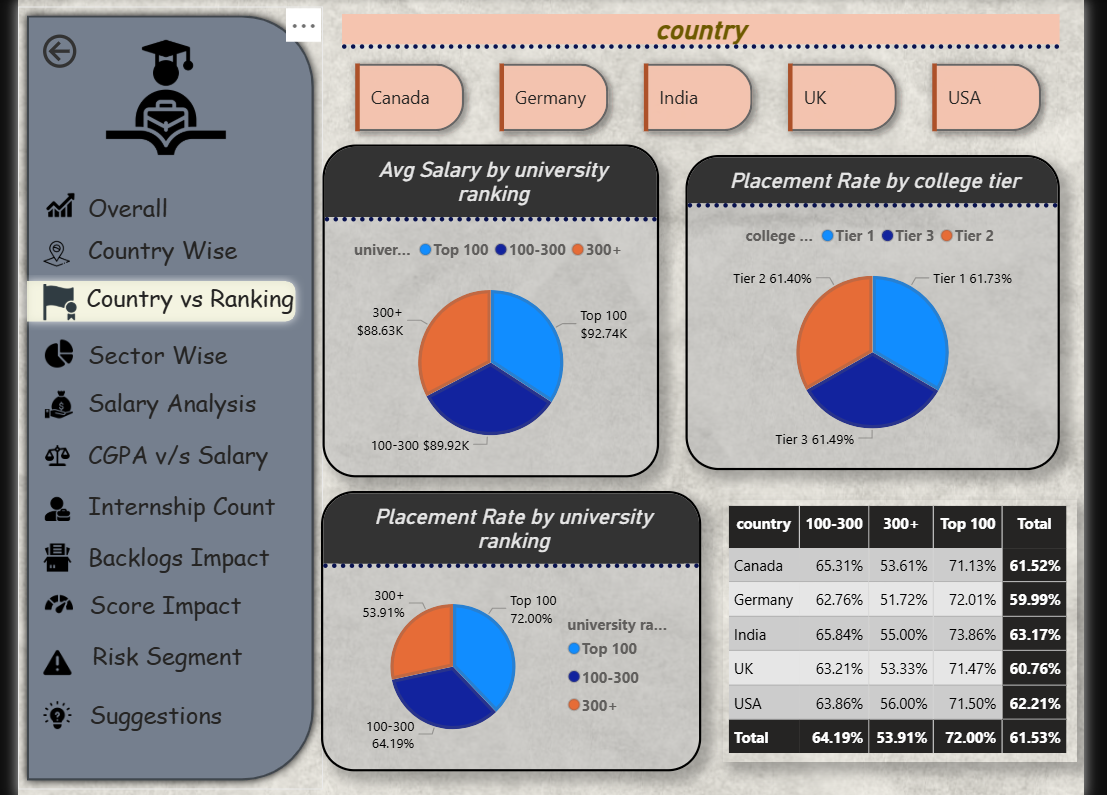

The page's visual inventory and layout, read from the dashboard file:
{"tool":"powerbi","page":{"name":"Country v/s Ranking","canvas":[960,720],"ordinal":3},"visuals":[{"type":"shape","box":[0,7.3,274.5,705.5],"z":0},{"type":"image","box":[49.1,27.3,169.1,123.6],"z":1000},{"type":"textbox","box":[58,206,234,46],"z":2000},{"type":"textbox","box":[58.7,300.7,234,44],"z":3000},{"type":"textbox","box":[58,482,288,44],"z":4000},{"type":"textbox","box":[58,390,288,46],"z":5000},{"type":"textbox","box":[58,436,288,54],"z":6000},{"type":"textbox","box":[60,526,210,48],"z":7000},{"type":"textbox","box":[62,572,264,52],"z":8000},{"type":"textbox","box":[58,344,288,46],"z":9000},{"type":"textbox","box":[60,624,320,48],"z":10000},{"type":"image","box":[14,218,42,24],"z":11000},{"type":"image","box":[14.5,632.7,41.8,25.5],"z":12000},{"type":"image","box":[16.4,307.3,41.8,25.5],"z":13000},{"type":"image","box":[16.4,352.7,41.8,25.5],"z":14000},{"type":"image","box":[14.5,398.2,41.8,25.5],"z":15000},{"type":"image","box":[14.5,447.3,41.8,25.5],"z":16000},{"type":"image","box":[14.5,490.9,41.8,25.5],"z":17000},{"type":"image","box":[16.4,532.7,41.8,25.5],"z":18000},{"type":"image","box":[14.5,585.5,41.8,25.5],"z":19000},{"type":"shape","box":[0,245.5,258.2,52.7],"z":20000},{"type":"textbox","box":[58.2,167.3,216.4,45.5],"z":21000},{"type":"image","box":[18.2,172.7,41.8,25.5],"z":22000},{"type":"textbox","box":[56.4,249.1,321.8,45.5],"z":23000},{"type":"image","box":[12.7,256.4,50.9,32.7],"z":24000},{"type":"actionButton","box":[83.6,27.3,100,114.5],"z":25000},{"type":"actionButton","box":[18.2,27.3,41.8,40],"z":26000},{"type":"actionButton","box":[9.1,209.1,256.4,38.2],"z":27000},{"type":"actionButton","box":[5.5,300,256.4,38.2],"z":28000},{"type":"actionButton","box":[7.3,345.5,256.4,38.2],"z":29000},{"type":"actionButton","box":[9.1,392.7,256.4,38.2],"z":30000},{"type":"actionButton","box":[5.5,167.3,256.4,38.2],"z":31000},{"type":"actionButton","box":[14.5,436.4,256.4,38.2],"z":32000},{"type":"actionButton","box":[9.1,485.5,256.4,38.2],"z":33000},{"type":"actionButton","box":[5.5,572.7,256.4,38.2],"z":34000},{"type":"actionButton","box":[0,623.6,256.4,38.2],"z":35000},{"type":"actionButton","box":[9.1,525.5,256.4,38.2],"z":36000},{"type":"pieChart","fields":{"Category":["global_placement.university_ranking_band"],"Y":["Measures Table.Placement Rate"]},"box":[272.9,442.9,342.9,252.9],"z":37000},{"type":"advancedSlicerVisual","fields":{"Values":["global_placement.country"]},"box":[291.7,13.3,646.7,118.3],"z":38000},{"type":"pieChart","fields":{"Category":["global_placement.college_tier"],"Y":["Measures Table.Placement Rate"]},"box":[601.4,140,337.1,284.3],"z":39000},{"type":"pieChart","fields":{"Category":["global_placement.university_ranking_band"],"Y":["Measures Table.Avg Salary"]},"box":[275,131.7,303.3,300],"z":40000},{"type":"pivotTable","fields":{"Rows":["global_placement.country"],"Columns":["global_placement.university_ranking_band"],"Values":["Measures Table.Placement Rate"]},"box":[635.7,451.4,318.6,235.7],"z":41000}]}

Visuals, with their boxes on the page's 960x720 design canvas (x1, y1, x2, y2). These are canvas units, not pixel positions in the 1107x795 screenshot, which may show the page scaled, cropped or inside an application window:
shape: select_region(0, 7, 274, 713)
image: select_region(49, 27, 218, 151)
textbox: select_region(58, 206, 292, 252)
textbox: select_region(59, 301, 293, 345)
textbox: select_region(58, 482, 346, 526)
textbox: select_region(58, 390, 346, 436)
textbox: select_region(58, 436, 346, 490)
textbox: select_region(60, 526, 270, 574)
textbox: select_region(62, 572, 326, 624)
textbox: select_region(58, 344, 346, 390)
textbox: select_region(60, 624, 380, 672)
image: select_region(14, 218, 56, 242)
image: select_region(14, 633, 56, 658)
image: select_region(16, 307, 58, 333)
image: select_region(16, 353, 58, 378)
image: select_region(14, 398, 56, 424)
image: select_region(14, 447, 56, 473)
image: select_region(14, 491, 56, 516)
image: select_region(16, 533, 58, 558)
image: select_region(14, 586, 56, 611)
shape: select_region(0, 246, 258, 298)
textbox: select_region(58, 167, 275, 213)
image: select_region(18, 173, 60, 198)
textbox: select_region(56, 249, 378, 295)
image: select_region(13, 256, 64, 289)
actionButton: select_region(84, 27, 184, 142)
actionButton: select_region(18, 27, 60, 67)
actionButton: select_region(9, 209, 266, 247)
actionButton: select_region(6, 300, 262, 338)
actionButton: select_region(7, 346, 264, 384)
actionButton: select_region(9, 393, 266, 431)
actionButton: select_region(6, 167, 262, 206)
actionButton: select_region(14, 436, 271, 475)
actionButton: select_region(9, 486, 266, 524)
actionButton: select_region(6, 573, 262, 611)
actionButton: select_region(0, 624, 256, 662)
actionButton: select_region(9, 526, 266, 564)
pieChart - global_placement.university_ranking_band x Measures Table.Placement Rate: select_region(273, 443, 616, 696)
advancedSlicerVisual - global_placement.country: select_region(292, 13, 938, 132)
pieChart - global_placement.college_tier x Measures Table.Placement Rate: select_region(601, 140, 938, 424)
pieChart - global_placement.university_ranking_band x Measures Table.Avg Salary: select_region(275, 132, 578, 432)
pivotTable - global_placement.country x global_placement.university_ranking_band: select_region(636, 451, 954, 687)
